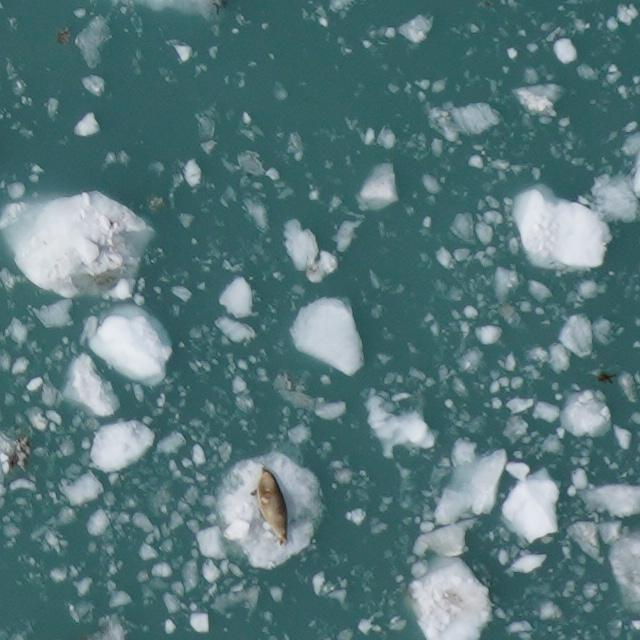seal: (242, 464, 305, 550)
